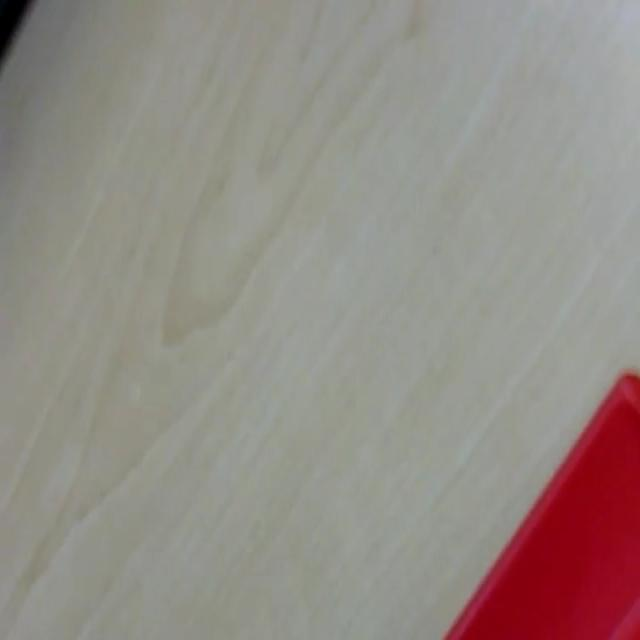red_block: (441, 368, 639, 637)
